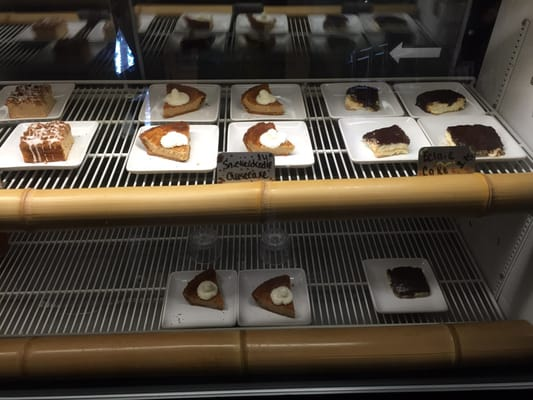salad: (19, 120, 74, 164), (4, 83, 56, 121), (140, 124, 191, 162), (243, 124, 297, 155), (242, 85, 286, 117)
sushi: (362, 124, 411, 159)
